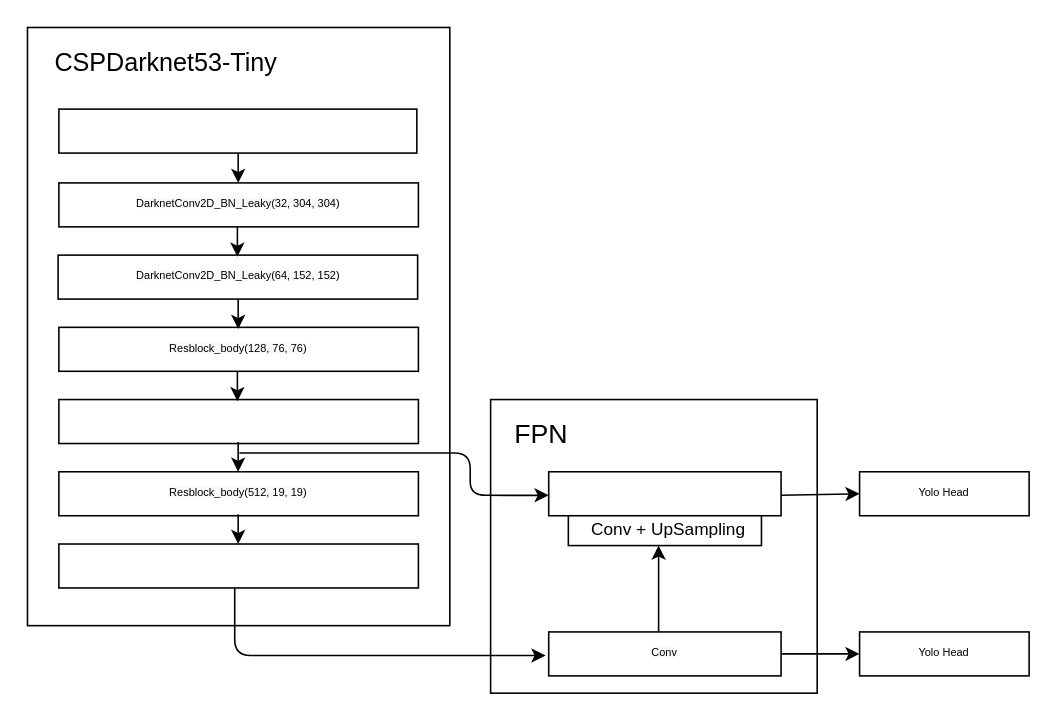
Some shapes in this 1057 by 721 pixel diagram are drawn without their labels. Each missing label, with the centre of its shape:
Concat: (x=664, y=493)
DarknetConv2D_BN_Leaky(512, 19, 19): (x=237, y=565)
Inputs(3, 608, 608): (x=237, y=130)
Resblock_body(256, 38, 38): (x=237, y=421)
